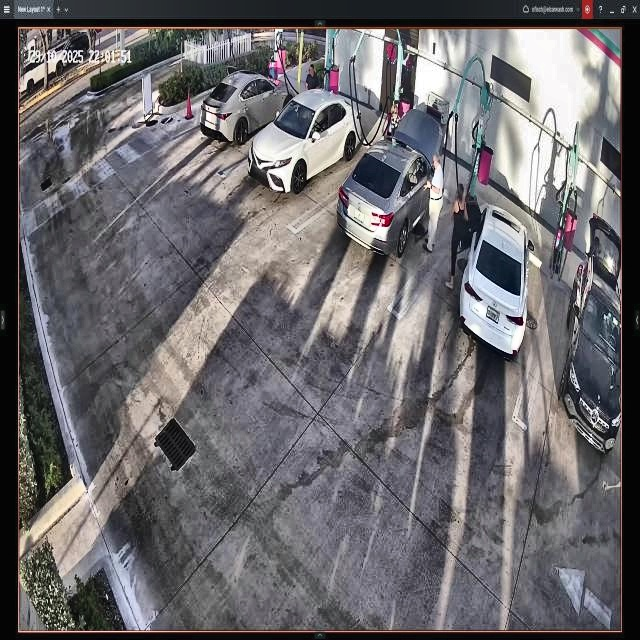Car: (339, 112, 438, 258), (250, 90, 361, 196), (460, 205, 531, 358), (201, 70, 296, 143)
